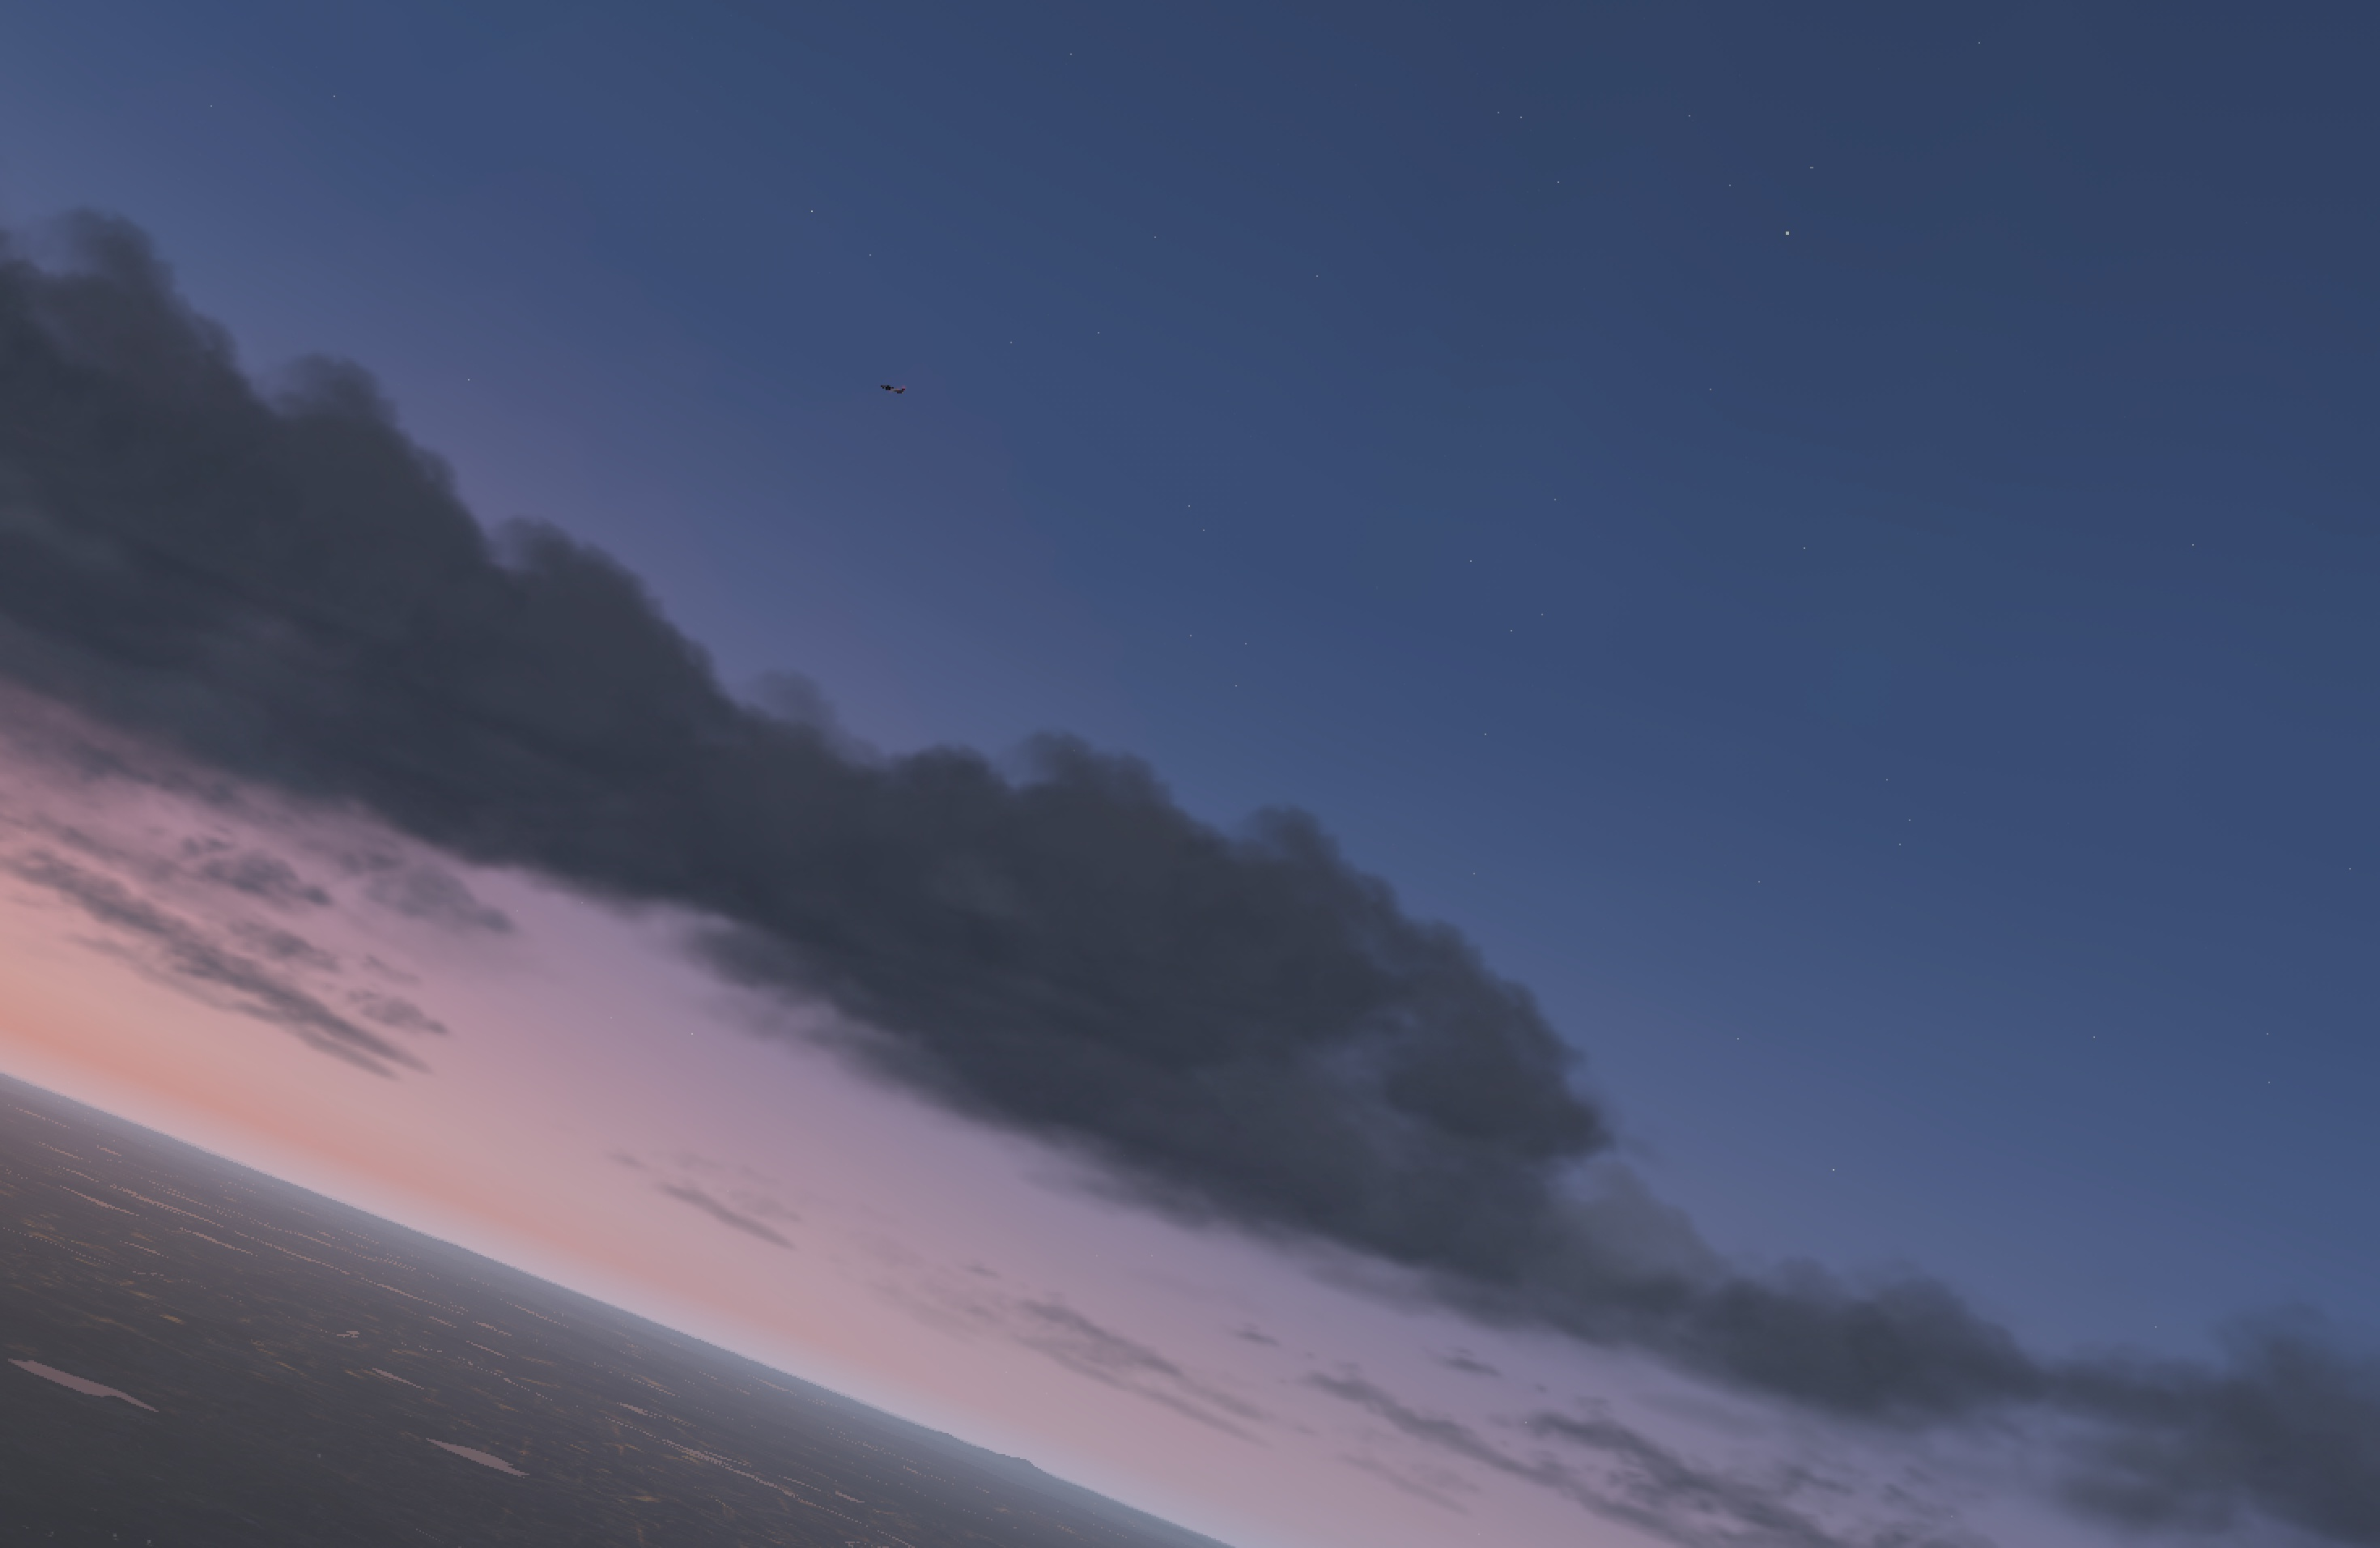aircraft: (869, 382, 907, 396)
